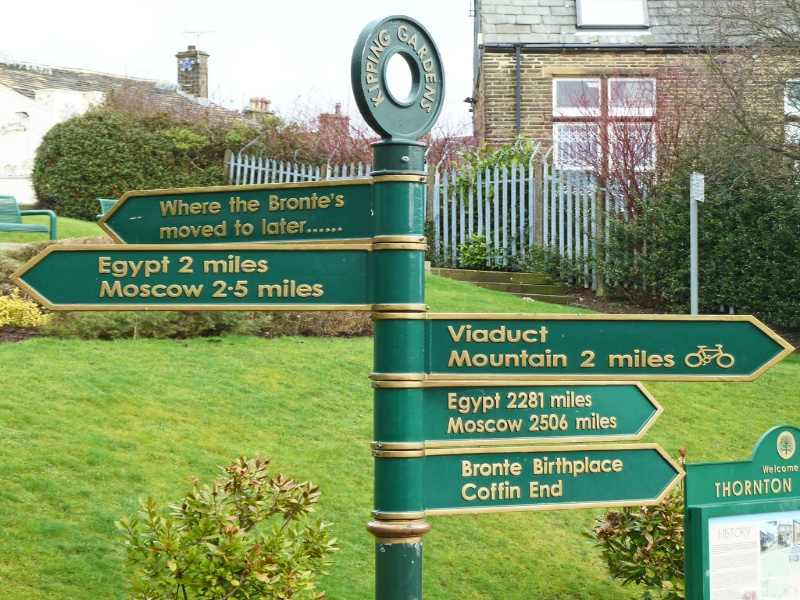cycle_route_ahead: (678, 341, 736, 372)
